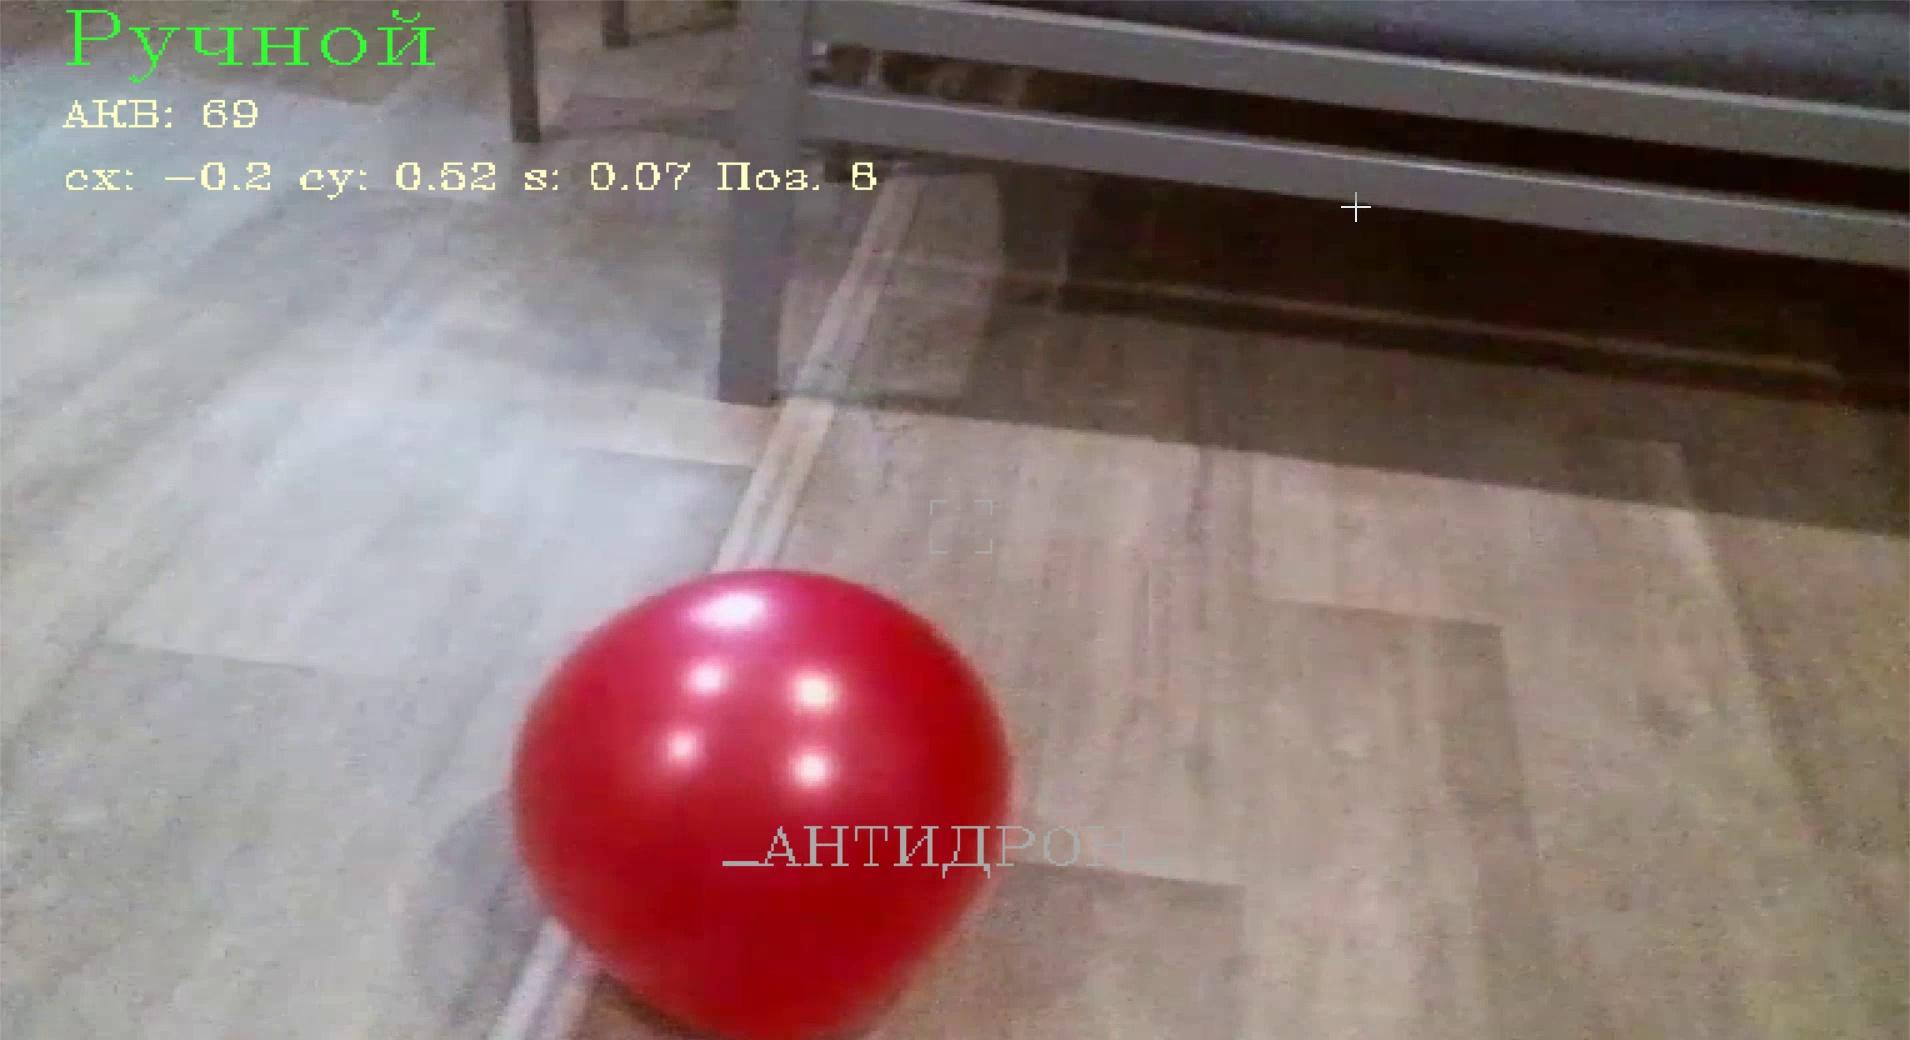red: (502, 564, 1018, 1040)
